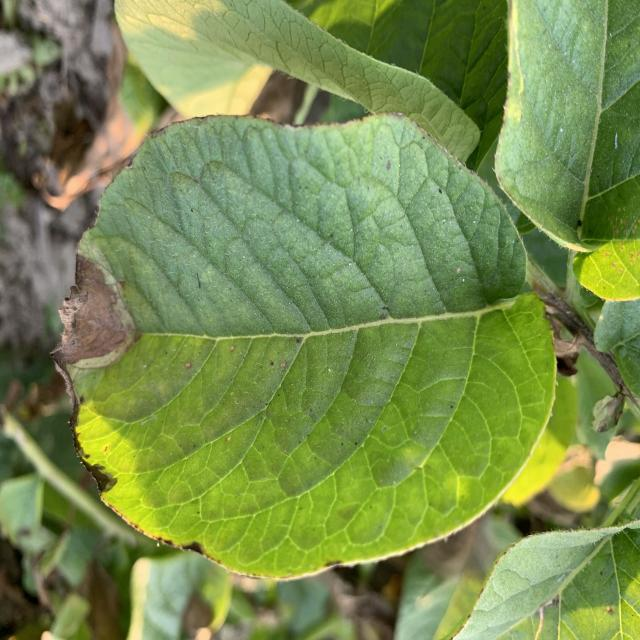lateblight: (52, 253, 139, 372)
